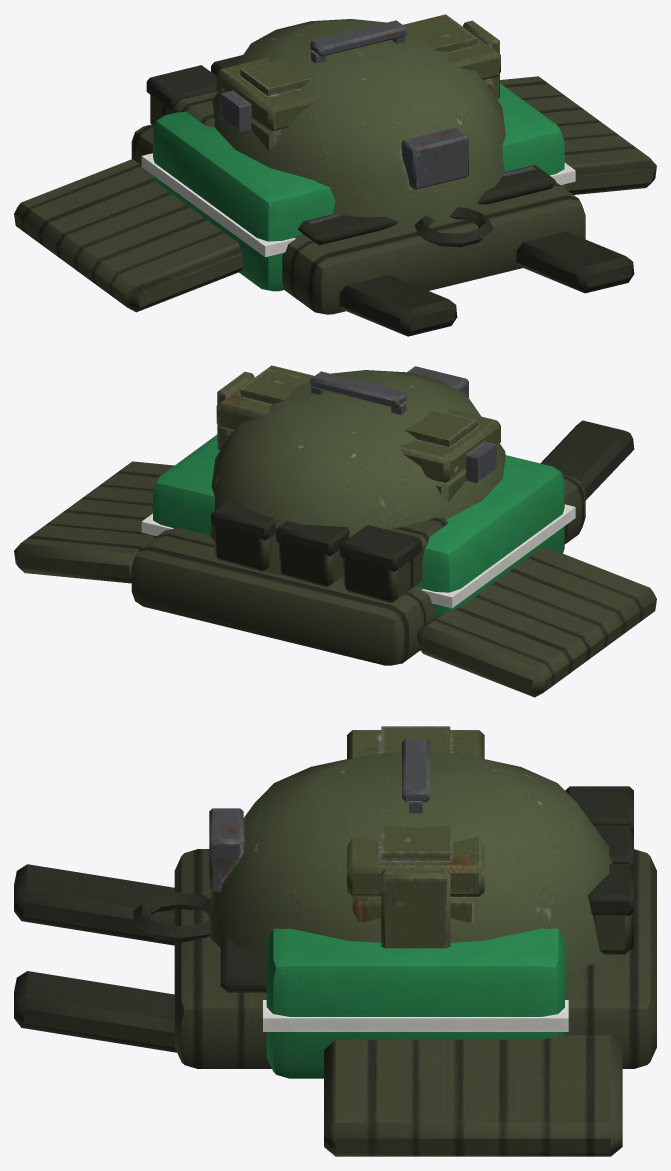
The model's file is loot.glb.
3 views of the same model, one above another, from view 1: azimuth 30°, elevation 25°; view 2: azimuth 150°, elevation 25°; view 3: azimuth 270°, elevation 25° (orthographic). The views are drawn at different scales.
Visible parts, largest first — view 1: armor_vest, helmet, medkit, ammo_556; view 2: armor_vest, helmet, medkit, ammo_556; view 3: armor_vest, helmet, medkit, ammo_556.
Part boxes in pixels (x1,y1,x2,y2): armor_vest: [14, 55, 656, 336]; helmet: [212, 19, 505, 230]; medkit: [141, 83, 575, 291]; ammo_556: [216, 14, 500, 150]; armor_vest: [14, 420, 656, 697]; helmet: [210, 366, 505, 581]; medkit: [141, 434, 575, 617]; ammo_556: [216, 365, 500, 501]; armor_vest: [14, 786, 656, 1156]; helmet: [208, 752, 612, 975]; medkit: [257, 928, 568, 1078]; ammo_556: [347, 726, 484, 948].
Size of what is drawn, in the model's own units: 0.6605 by 0.2291 by 0.56.
1 material, 1 textured.
